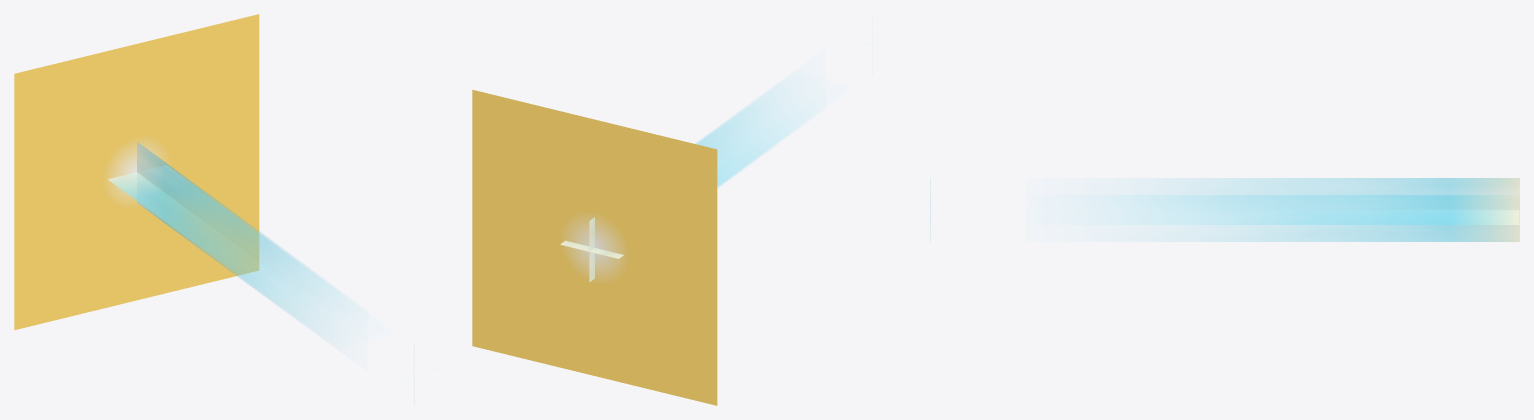
Rendered from fx_tracer.glb.
The picture shows the model from 3 angles, left to right: view 1: azimuth 30°, elevation 25°; view 2: azimuth 150°, elevation 25°; view 3: azimuth 270°, elevation 25°; orthographic projection. The views are drawn at different scales.
Parts seen in each view (by area): view 1: fx_muzzle, fx_tracer; view 2: fx_muzzle, fx_tracer; view 3: fx_tracer.
Part boxes in pixels (x1,y1,x2,y2): fx_muzzle: (14,14,259,330); fx_tracer: (108,142,352,337); fx_muzzle: (472,89,717,405); fx_tracer: (560,82,810,282); fx_tracer: (930,178,1519,241).
Bounding box in the file's own units: 0.5 × 0.5 × 1.
Materials: 2 (2 with a texture image).
